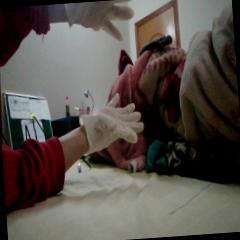gloved: (79, 93, 146, 156), (64, 0, 137, 46)
